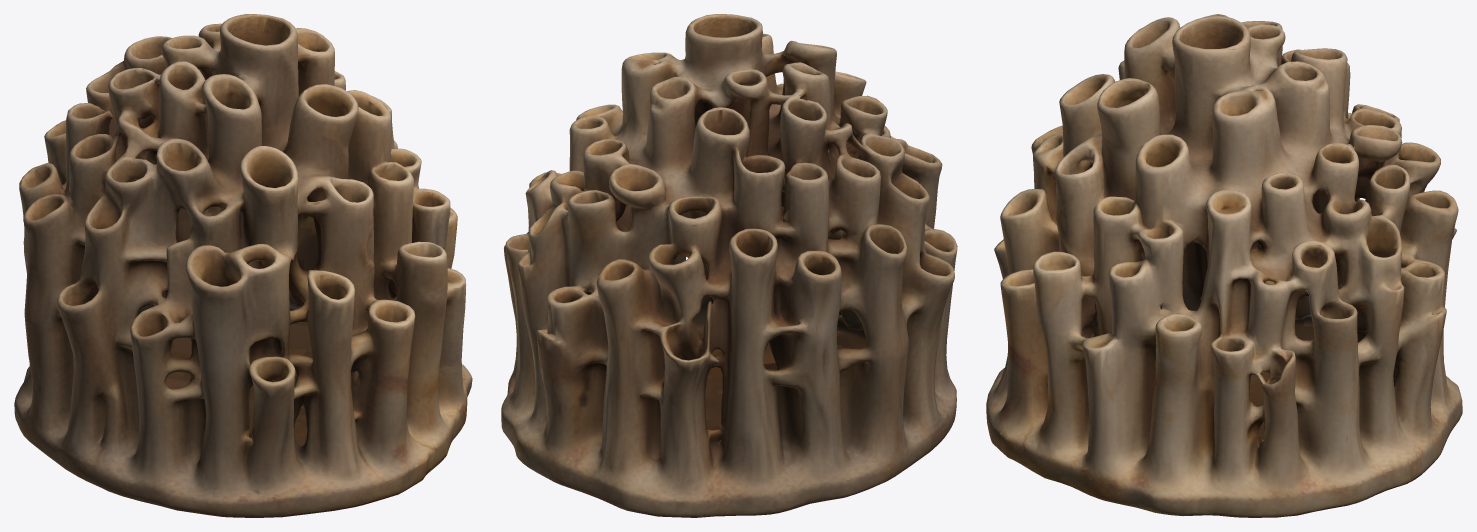
3 views of the same model, side by side, from view 1: azimuth 30°, elevation 25°; view 2: azimuth 150°, elevation 25°; view 3: azimuth 270°, elevation 25° (orthographic).
Visible parts, largest first — view 1: world; view 2: world; view 3: world.
Part boxes in pixels (x1=…): world: x1=14, y1=14, x2=472, y2=517; world: x1=501, y1=14, x2=957, y2=517; world: x1=986, y1=14, x2=1462, y2=517.
Size of the model in its own units: 0.2158 by 0.2036 by 0.22.
Materials: 1 (1 with a texture image).
